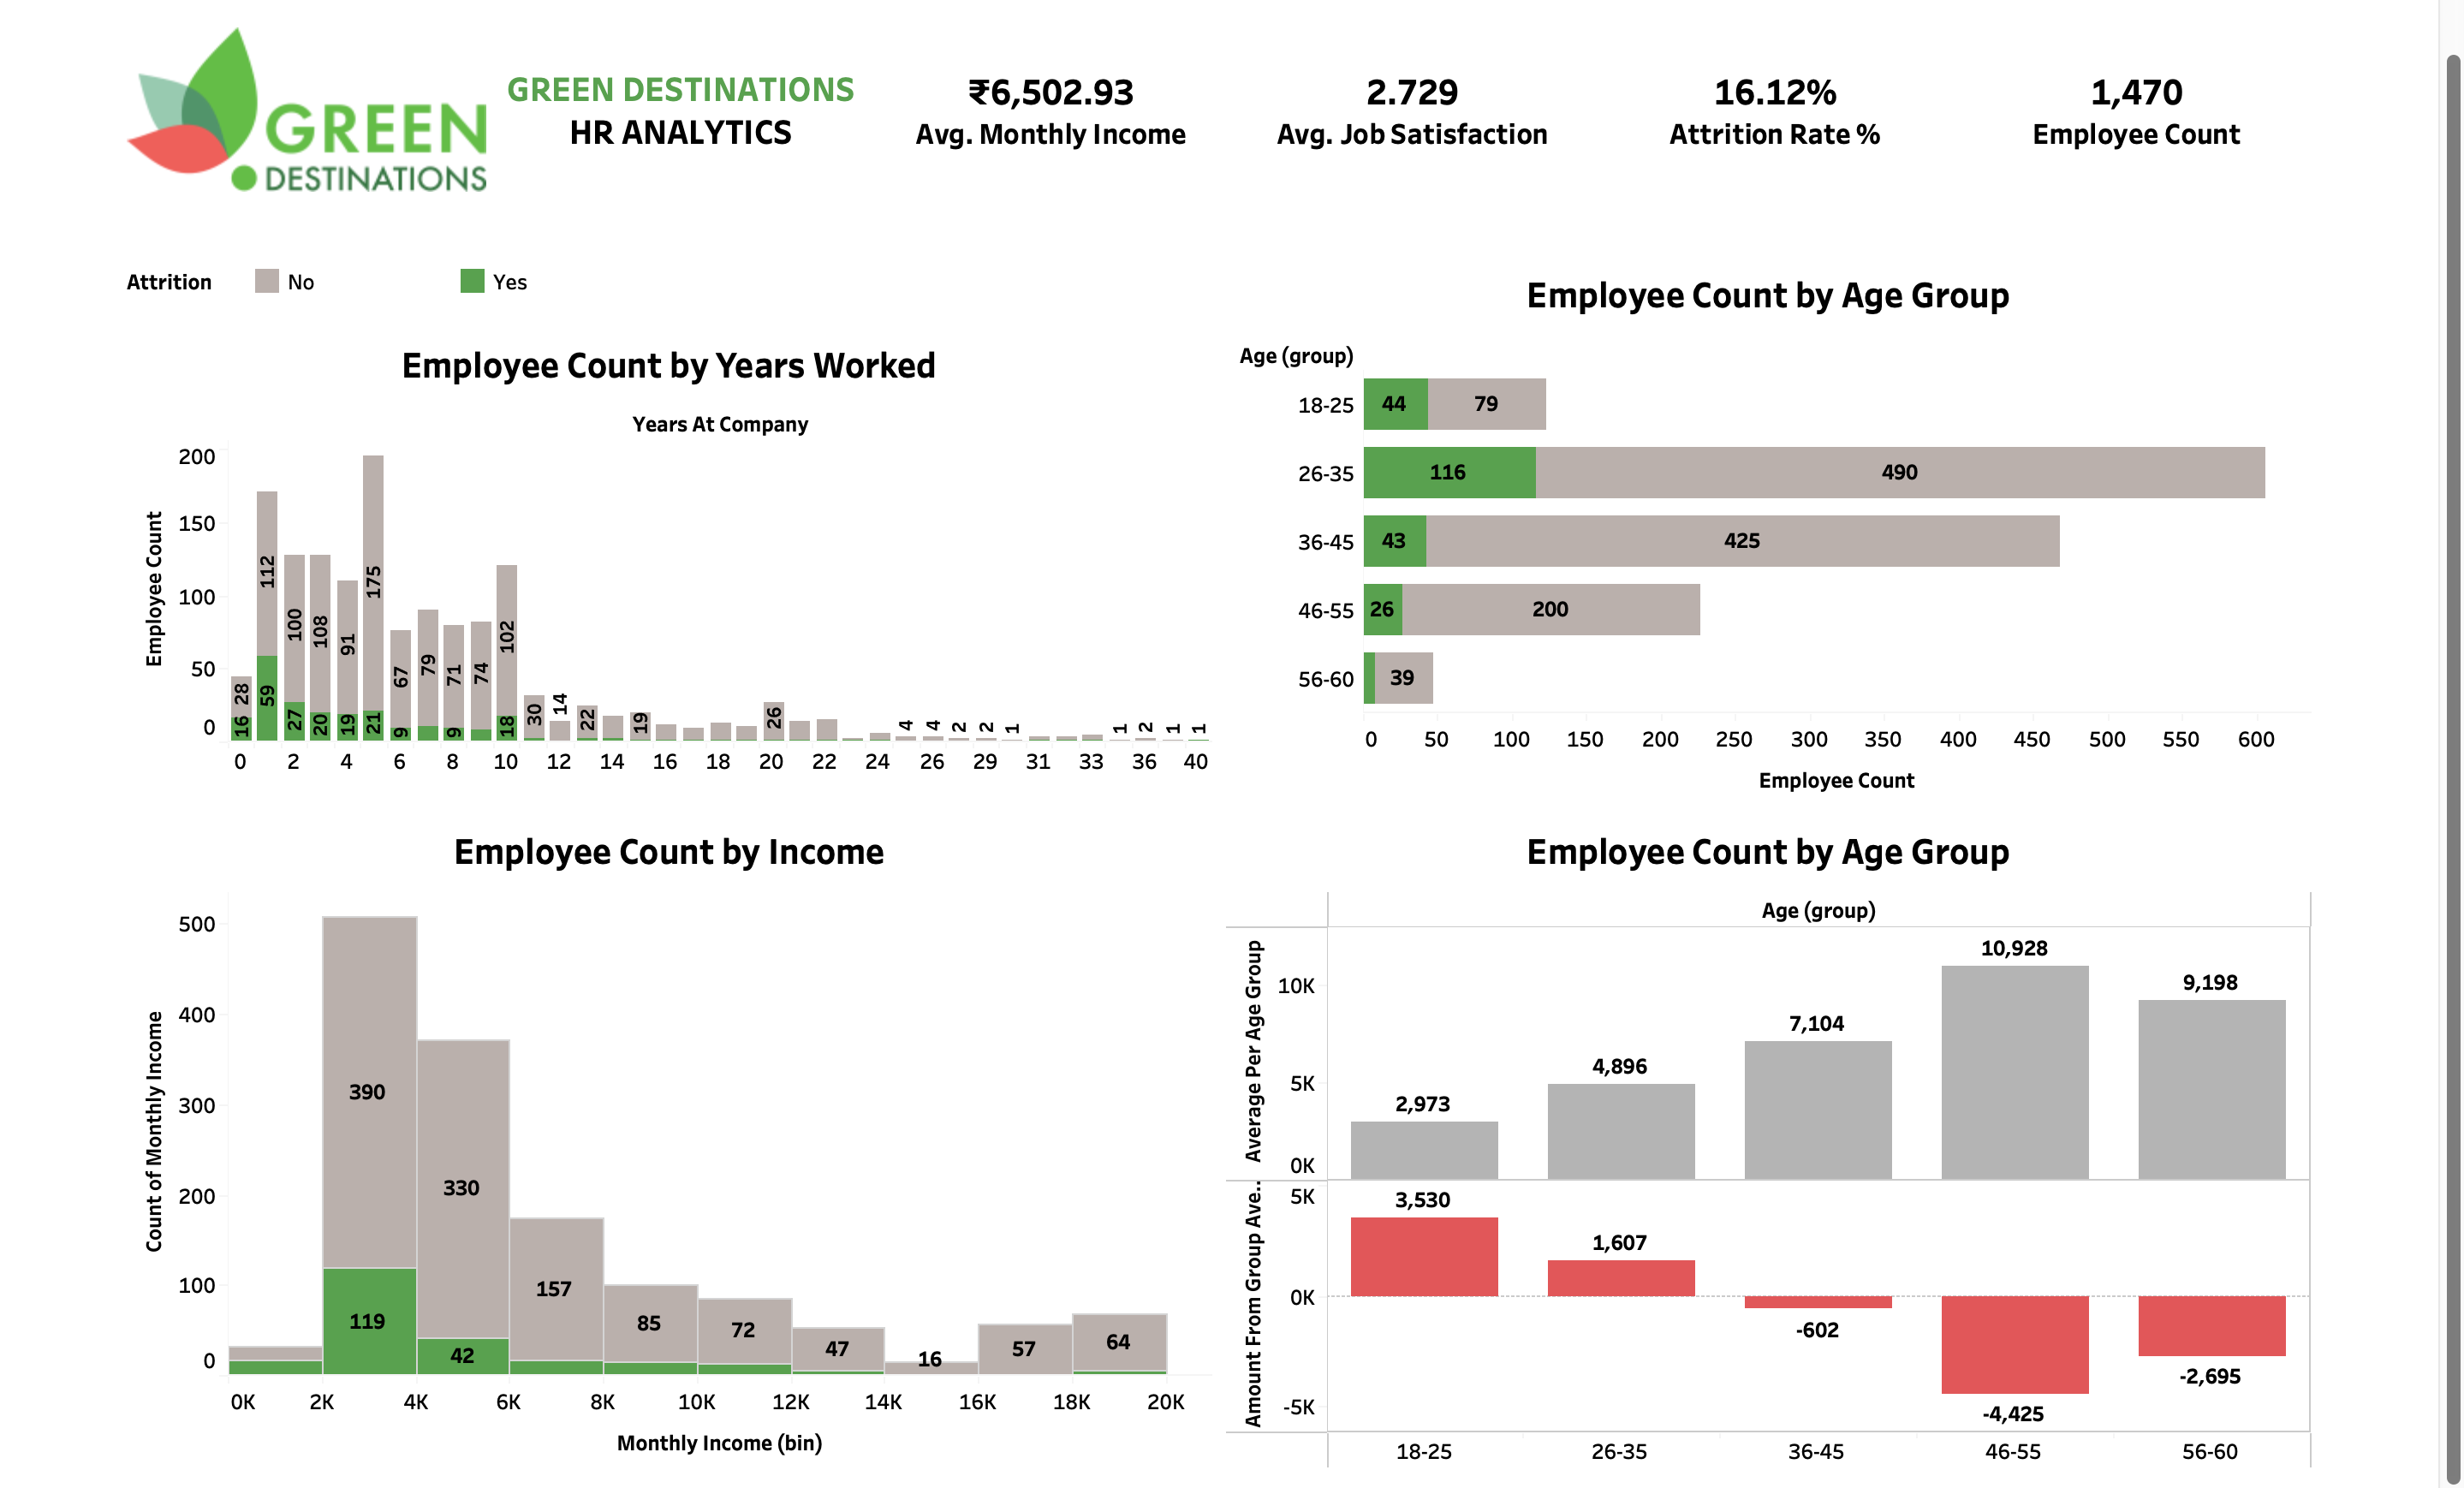

The dashboard page shown, as its layout file describes it:
{"tool":"tableau","page":{"name":"Dashboard 1","canvas":[1300,900],"ordinal":0},"visuals":[{"type":"image","param":"/Users/abby/Downloads/Green_Destination/greendestination+logo.png","box":[8,8,218,172]},{"type":"text","box":[226,8,220,172]},{"type":"worksheet","title":"Avg Monthly Income","mark":"Automatic","box":[446,8,211.5,172]},{"type":"worksheet","title":"Job Satisfaction","mark":"Automatic","box":[657.5,8,211.5,172]},{"type":"worksheet","title":"Attrition Rate","mark":"Automatic","box":[869,8,211.5,172]},{"type":"worksheet","title":"Total Employee Count","mark":"Automatic","box":[1080.5,8,211.5,172]},{"type":"legend","title":"Employee Count by Years Worked","param":"[federated.0pdsnbd0kbzuyi11bjr4s1y7ojub].[none:Attrition:nk]","box":[8,180,642,41]},{"type":"worksheet","title":"Employee Count by Age","mark":"Automatic","cols":["EmployeeCount"],"box":[650,180,642,325]},{"type":"worksheet","title":"Employee Count by Years Worked","mark":"Automatic","rows":["EmployeeCount"],"cols":["YearsAtCompany"],"box":[8,221,642,267]},{"type":"worksheet","title":"Employee Count by Income","mark":"Automatic","rows":["MonthlyIncome"],"cols":["Monthly Income (bin)"],"box":[8,505,642,387]},{"type":"worksheet","title":"Avg Income by Age","mark":"Automatic","rows":["Calculation_2412733194042290176","Calculation_2412733194043088898"],"box":[650,505,642,387]}]}

Visuals, with their boxes on the page's 1300x900 design canvas (x1, y1, x2, y2). These are canvas units, not pixel positions in the 2464x1488 screenshot, which may show the page scaled, cropped or inside an application window:
image: <bbox>8, 8, 226, 180</bbox>
text: <bbox>226, 8, 446, 180</bbox>
"Avg Monthly Income" worksheet: <bbox>446, 8, 658, 180</bbox>
"Job Satisfaction" worksheet: <bbox>658, 8, 869, 180</bbox>
"Attrition Rate" worksheet: <bbox>869, 8, 1080, 180</bbox>
"Total Employee Count" worksheet: <bbox>1080, 8, 1292, 180</bbox>
"Employee Count by Years Worked" legend: <bbox>8, 180, 650, 221</bbox>
"Employee Count by Age" worksheet: <bbox>650, 180, 1292, 505</bbox>
"Employee Count by Years Worked" worksheet: <bbox>8, 221, 650, 488</bbox>
"Employee Count by Income" worksheet: <bbox>8, 505, 650, 892</bbox>
"Avg Income by Age" worksheet: <bbox>650, 505, 1292, 892</bbox>
